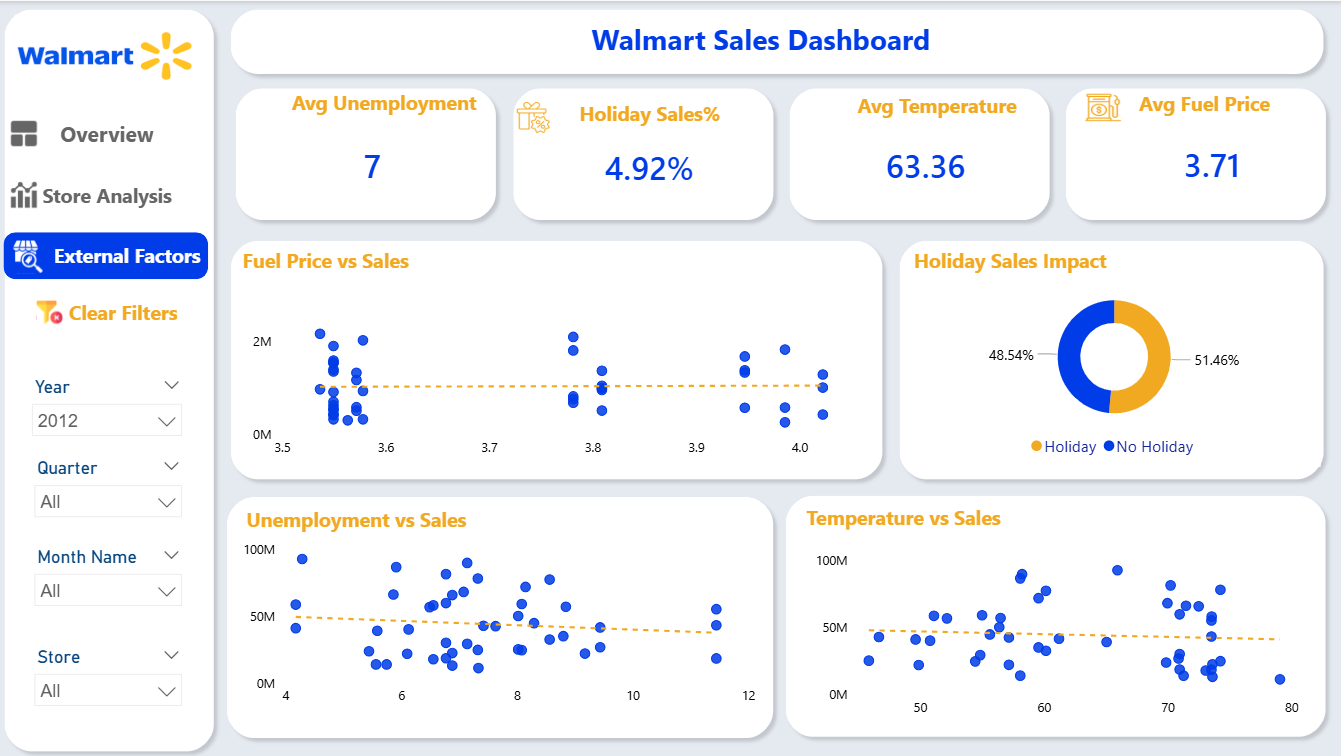

This screenshot's page, from the dashboard's own definition file:
{"tool":"powerbi","page":{"name":"External Factors Analysis","canvas":[1280,720],"ordinal":2},"visuals":[{"type":"shape","box":[0,0,214.7,720.2],"z":0},{"type":"shape","box":[214.7,0,1053.2,77.2],"z":1000},{"type":"textbox","box":[255.8,13.3,939.8,50.7],"z":2000},{"type":"image","box":[18.1,13.3,170.1,77.2],"z":3000},{"type":"shape","box":[214.7,219.6,634.6,242.5],"z":4000},{"type":"shape","box":[742,462.1,528.4,244.9],"z":5000},{"type":"shape","box":[211.1,463.3,534.5,244.9],"z":6000},{"type":"textbox","box":[232.8,474.1,358.3,42.2],"z":7000},{"type":"textbox","box":[229.2,229.2,392.1,42.2],"z":8000},{"type":"textbox","box":[763.7,471.7,390.9,35],"z":9000},{"type":"actionButton","box":[9.7,103.8,191.8,44.6],"z":10000},{"type":"actionButton","box":[9.7,161.1,191.8,45.8],"z":11000},{"type":"actionButton","box":[7.2,219.6,194.2,44.6],"z":12000},{"type":"shape","box":[744.7,75.1,263,141.2],"z":14000},{"type":"shape","box":[220.1,75.1,263,141.2],"z":15000},{"type":"shape","box":[482.4,75.1,263,141.2],"z":16000},{"type":"textbox","box":[265.4,78.4,205.1,43.4],"z":17000},{"type":"cardVisual","fields":{"Data":["Measure Table.Avg Unemployment"]},"box":[265.4,120.6,183.4,67.6],"z":18000},{"type":"textbox","box":[798.7,82,189.4,43.4],"z":19000},{"type":"cardVisual","fields":{"Data":["Measure Table.Avg Temperature"]},"box":[798.7,120.6,168.9,68.8],"z":20000},{"type":"shape","box":[1007,75.1,263,141.2],"z":21000},{"type":"textbox","box":[1052,79.6,189.4,43.4],"z":22000},{"type":"cardVisual","fields":{"Data":["Measure Table.Avg Fuel Price"]},"box":[1070.1,119.4,168.9,68.8],"z":23000},{"type":"image","box":[1032.7,86.9,37.4,29],"z":24000},{"type":"scatterChart","fields":{"Category":["Walmart_Sales.Store"],"X":["Avg(Walmart_Sales.Fuel_Price)"],"Y":["Measure Table.Avg Weekly Sales"]},"box":[238.9,264.2,586.3,177.3],"z":25000},{"type":"scatterChart","fields":{"Y":["Measure Table.Total Sales"],"Category":["Walmart_Sales.Store"],"X":["Measure Table.Avg Temperature"]},"box":[772.1,517.6,469.3,171.3],"z":26000},{"type":"shape","box":[849.3,219.6,418.6,242.5],"z":27000},{"type":"donutChart","fields":{"Category":["Walmart_Sales.Holiday Type"],"Y":["Measure Table.Avg Weekly Sales"]},"box":[866.2,264.2,390.9,177.3],"z":28000},{"type":"textbox","box":[866.2,229.2,390.9,42.2],"z":29000},{"type":"slicer","fields":{"Values":["Calender.Year"]},"box":[24.2,351.1,162.9,62.7],"z":30000},{"type":"slicer","fields":{"Values":["Calender.Quarter"]},"box":[26.6,428.8,160.5,68.8],"z":31000},{"type":"slicer","fields":{"Values":["Calender.Month Name"]},"box":[26.6,512.7,160.5,79.6],"z":32000},{"type":"slicer","fields":{"Values":["Walmart_Sales.Store"]},"box":[26.6,607.3,160.5,79.6],"z":33000},{"type":"actionButton","box":[34.8,276.1,141.8,37.3],"z":35000},{"type":"textbox","box":[528.7,88.6,182.2,43.4],"z":36000},{"type":"cardVisual","fields":{"Data":["Measure Table.Holiday Sales %"]},"box":[535.9,127.2,168.9,60.3],"z":37000},{"type":"image","box":[491.3,93.4,37.4,33.8],"z":38000},{"type":"scatterChart","fields":{"Y":["Measure Table.Total Sales"],"Category":["Walmart_Sales.Store"],"X":["Avg(Walmart_Sales.Unemployment)"]},"box":[229.2,506.7,497.1,171.3],"z":39000}]}

Visuals, with their boxes in screenshot pixels (x1, y1, x2, y2), scaled from the page's 1280x720 canvas onto the 1341x756 screenshot:
shape: {"left": 0, "top": 0, "right": 225, "bottom": 755}
shape: {"left": 225, "top": 0, "right": 1328, "bottom": 81}
textbox: {"left": 268, "top": 14, "right": 1253, "bottom": 67}
image: {"left": 19, "top": 14, "right": 197, "bottom": 95}
shape: {"left": 225, "top": 231, "right": 890, "bottom": 485}
shape: {"left": 777, "top": 485, "right": 1331, "bottom": 742}
shape: {"left": 221, "top": 486, "right": 781, "bottom": 744}
textbox: {"left": 244, "top": 498, "right": 619, "bottom": 542}
textbox: {"left": 240, "top": 241, "right": 651, "bottom": 285}
textbox: {"left": 800, "top": 495, "right": 1210, "bottom": 532}
actionButton: {"left": 10, "top": 109, "right": 211, "bottom": 156}
actionButton: {"left": 10, "top": 169, "right": 211, "bottom": 217}
actionButton: {"left": 8, "top": 231, "right": 211, "bottom": 277}
shape: {"left": 780, "top": 79, "right": 1056, "bottom": 227}
shape: {"left": 231, "top": 79, "right": 506, "bottom": 227}
shape: {"left": 505, "top": 79, "right": 781, "bottom": 227}
textbox: {"left": 278, "top": 82, "right": 493, "bottom": 128}
cardVisual - Measure Table.Avg Unemployment: {"left": 278, "top": 127, "right": 470, "bottom": 198}
textbox: {"left": 837, "top": 86, "right": 1035, "bottom": 132}
cardVisual - Measure Table.Avg Temperature: {"left": 837, "top": 127, "right": 1014, "bottom": 199}
shape: {"left": 1055, "top": 79, "right": 1331, "bottom": 227}
textbox: {"left": 1102, "top": 84, "right": 1301, "bottom": 129}
cardVisual - Measure Table.Avg Fuel Price: {"left": 1121, "top": 125, "right": 1298, "bottom": 198}
image: {"left": 1082, "top": 91, "right": 1121, "bottom": 122}
scatterChart - Walmart_Sales.Store x Avg(Walmart_Sales.Fuel_Price): {"left": 250, "top": 277, "right": 865, "bottom": 464}
scatterChart - Measure Table.Total Sales x Walmart_Sales.Store: {"left": 809, "top": 543, "right": 1301, "bottom": 723}
shape: {"left": 890, "top": 231, "right": 1328, "bottom": 485}
donutChart - Walmart_Sales.Holiday Type x Measure Table.Avg Weekly Sales: {"left": 907, "top": 277, "right": 1317, "bottom": 464}
textbox: {"left": 907, "top": 241, "right": 1317, "bottom": 285}
slicer - Calender.Year: {"left": 25, "top": 369, "right": 196, "bottom": 434}
slicer - Calender.Quarter: {"left": 28, "top": 450, "right": 196, "bottom": 522}
slicer - Calender.Month Name: {"left": 28, "top": 538, "right": 196, "bottom": 622}
slicer - Walmart_Sales.Store: {"left": 28, "top": 638, "right": 196, "bottom": 721}
actionButton: {"left": 36, "top": 290, "right": 185, "bottom": 329}
textbox: {"left": 554, "top": 93, "right": 745, "bottom": 139}
cardVisual - Measure Table.Holiday Sales %: {"left": 561, "top": 134, "right": 738, "bottom": 197}
image: {"left": 515, "top": 98, "right": 554, "bottom": 134}
scatterChart - Measure Table.Total Sales x Walmart_Sales.Store: {"left": 240, "top": 532, "right": 761, "bottom": 712}
